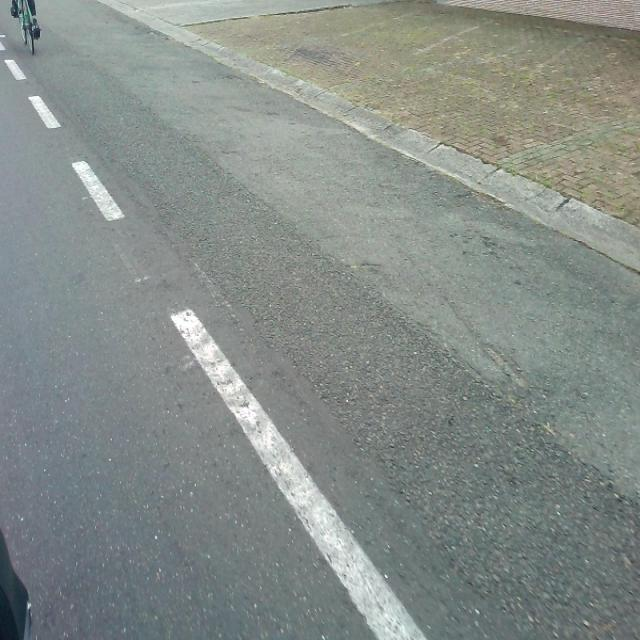DITCH: (1, 1, 638, 638), (2, 1, 638, 638)
